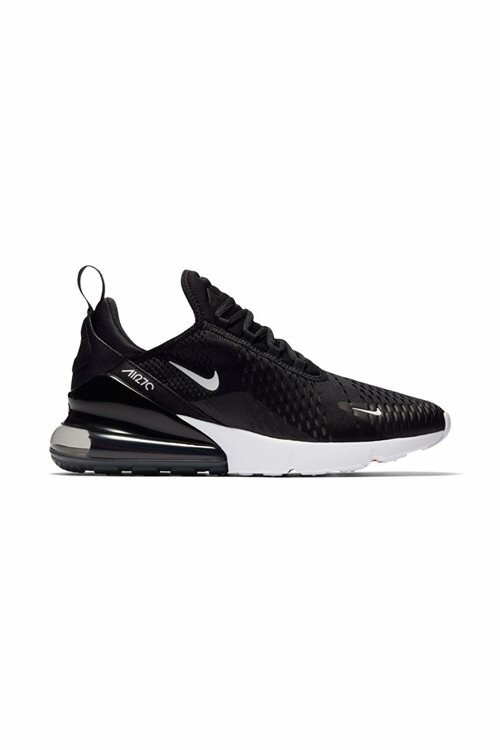nike: (165, 359, 225, 397)
